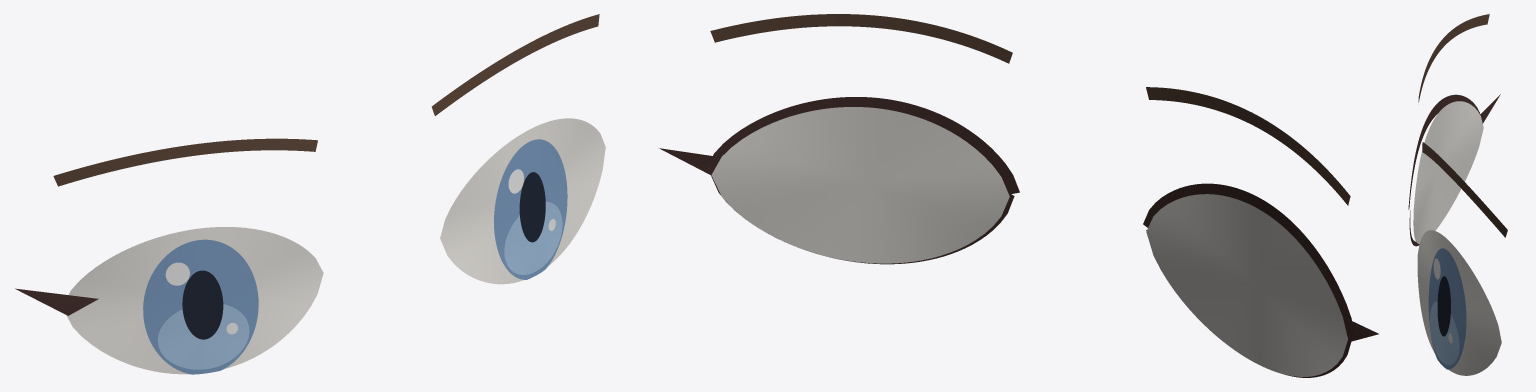
3 views of the same model, side by side, from view 1: azimuth 30°, elevation 25°; view 2: azimuth 150°, elevation 25°; view 3: azimuth 270°, elevation 25° (orthographic). The views are drawn at different scales.
Visible parts, largest first — view 1: Eye_White_-1, Eye_White_1, Eye_Iris_-1, Eye_Iris_1, Eye_Iris_Light_-1, Eyebrow_-1, Eye_Iris_Light_1, Eye_Pupil_-1, Eyebrow_1, Eye_Pupil_1, Eye_LashWing_-1; view 2: Eye_White_1, Eye_White_-1, Eyebrow_1, Eye_UpperLid_1, Eye_UpperLid_-1, Eyebrow_-1; view 3: Eye_White_-1, Eye_White_1, Eye_Iris_1, Eye_Iris_Light_1, Eyebrow_1, Eyebrow_-1, Eye_Pupil_1, Eye_UpperLid_-1, Eye_LashWing_-1, Eye_Glint_1_0.
Part boxes in pixels (box(x1,y1,x2,y2)): Eye_White_-1: box(66, 227, 323, 374); Eye_White_1: box(440, 118, 605, 284); Eye_Iris_-1: box(143, 239, 258, 374); Eye_Iris_1: box(494, 139, 567, 279); Eye_Iris_Light_-1: box(157, 304, 249, 369); Eyebrow_-1: box(53, 138, 317, 186); Eye_Iris_Light_1: box(504, 201, 562, 274); Eye_Pupil_-1: box(182, 270, 223, 339); Eyebrow_1: box(431, 14, 599, 115); Eye_Pupil_1: box(519, 172, 545, 242); Eye_LashWing_-1: box(15, 288, 98, 315); Eye_White_1: box(711, 107, 1009, 263); Eye_White_-1: box(1146, 194, 1347, 376); Eyebrow_1: box(710, 14, 1012, 63); Eye_UpperLid_1: box(705, 97, 1019, 194); Eye_UpperLid_-1: box(1143, 183, 1355, 337); Eyebrow_-1: box(1146, 87, 1350, 205); Eye_White_-1: box(1413, 101, 1483, 243); Eye_White_1: box(1417, 230, 1501, 375); Eye_Iris_1: box(1428, 248, 1466, 369); Eye_Iris_Light_1: box(1429, 301, 1459, 365); Eyebrow_1: box(1422, 142, 1507, 237); Eyebrow_-1: box(1418, 14, 1489, 102); Eye_Pupil_1: box(1437, 276, 1450, 336); Eye_UpperLid_-1: box(1408, 94, 1480, 209); Eye_LashWing_-1: box(1480, 94, 1500, 123); Eye_Glint_1_0: box(1433, 258, 1440, 279).
Size of the model in its own units: 0.4435 by 0.1616 by 0.0812.
